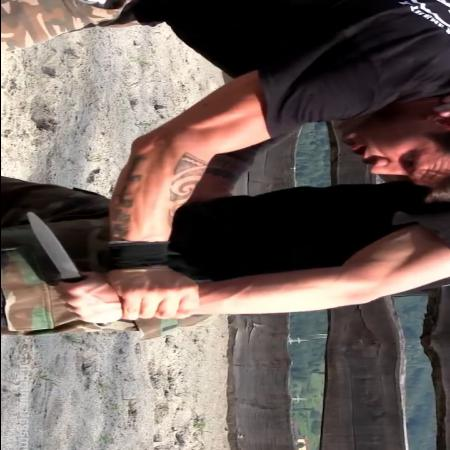long weapon: (18, 210, 116, 328)
